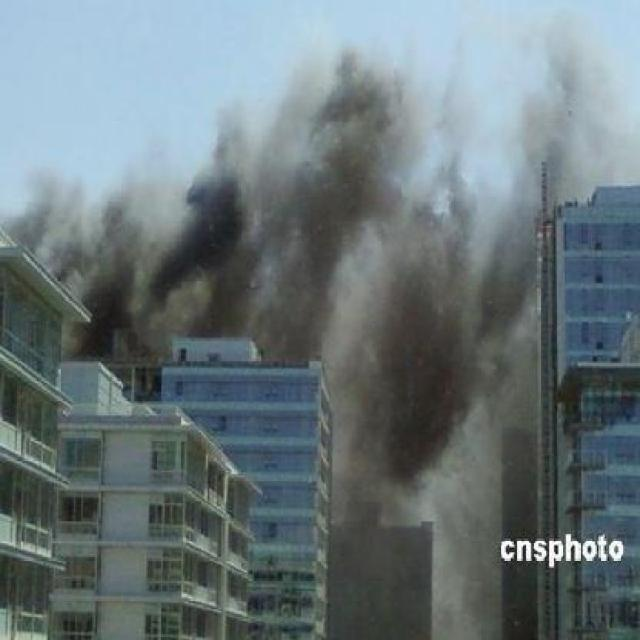Smoke: (21, 48, 562, 326), (336, 337, 524, 630)
